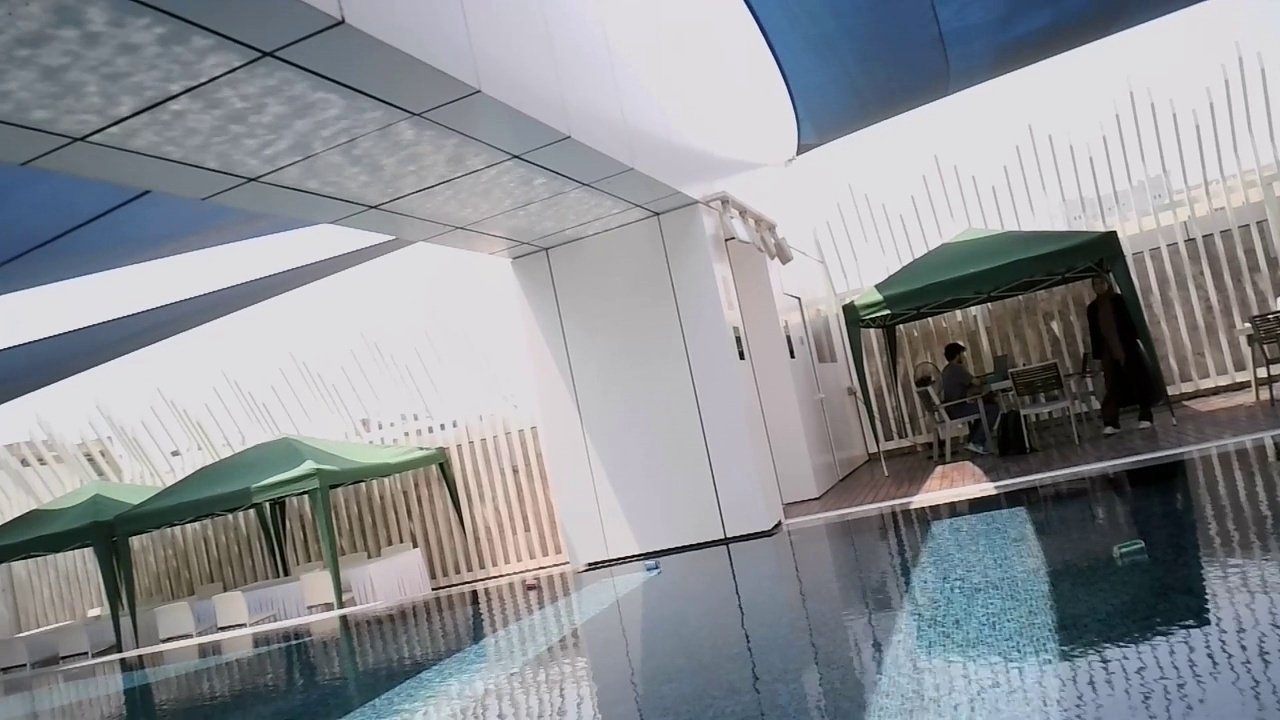debris: (1110, 535, 1150, 569), (640, 558, 665, 574), (520, 578, 546, 591)
